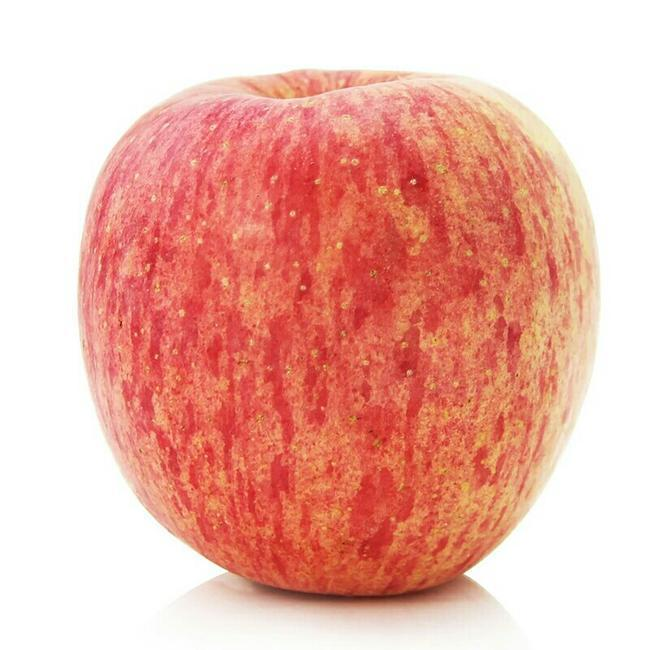apple: (72, 68, 603, 592)
